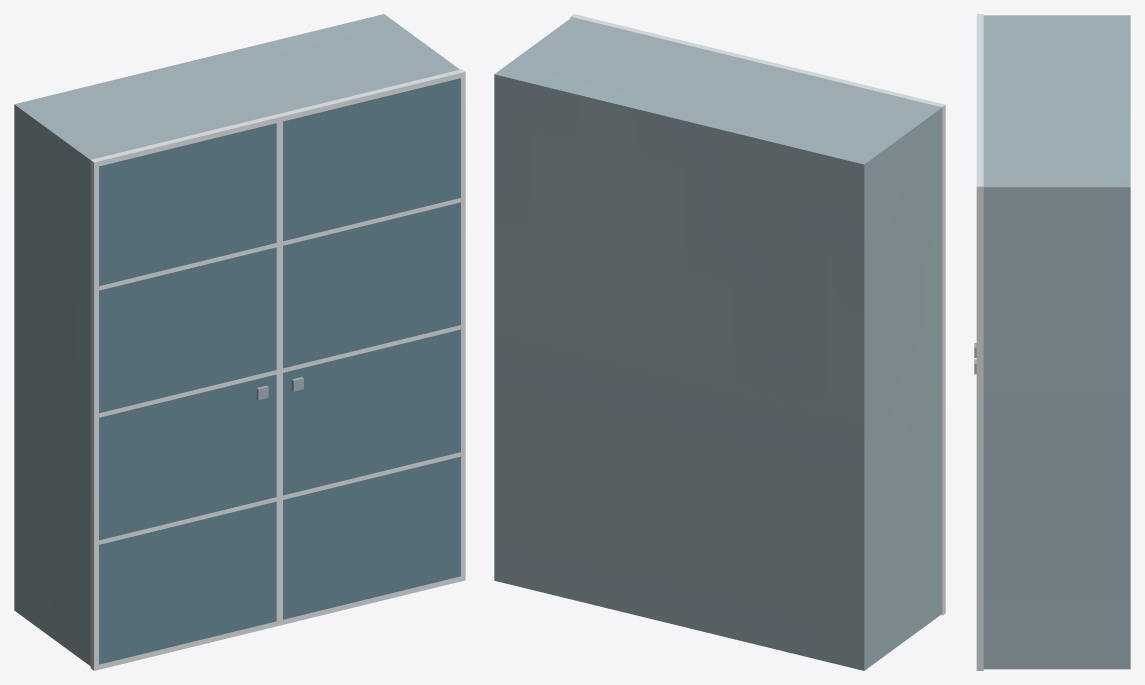
Rendered from closet_011.glb.
The picture shows the model from 3 angles, left to right: view 1: azimuth 30°, elevation 25°; view 2: azimuth 150°, elevation 25°; view 3: azimuth 270°, elevation 25°; orthographic projection. The views are drawn at different scales.
Visible parts, largest first — view 1: closet_011; view 2: closet_011; view 3: closet_011.
Part boxes in pixels (<box>): closet_011: <box>14,14,465,670</box>; closet_011: <box>494,14,945,670</box>; closet_011: <box>974,14,1130,670</box>.
Size of the model in its own units: 1.5 by 1.96 by 0.5716.
Materials: 1 (1 with a texture image).
